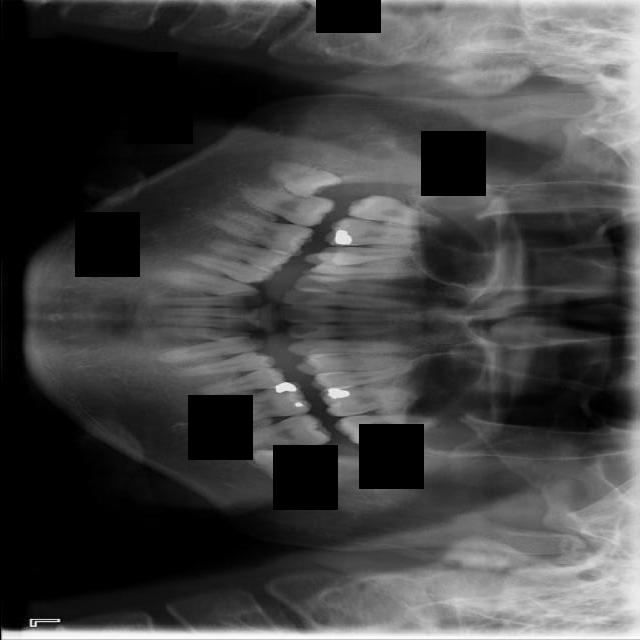52: (255, 375, 312, 428), (317, 386, 374, 417), (324, 217, 377, 247), (352, 386, 364, 391)
73: (35, 609, 50, 617)
BioHorizons Implant: (334, 407, 451, 447)
Biomet 3i Implant: (251, 448, 310, 488)
Blue Sky Bio Implant: (224, 410, 332, 457)
Caries: (346, 191, 464, 233)
Implant: (237, 183, 337, 233)
Keystone Dental Implant: (263, 153, 342, 209)
